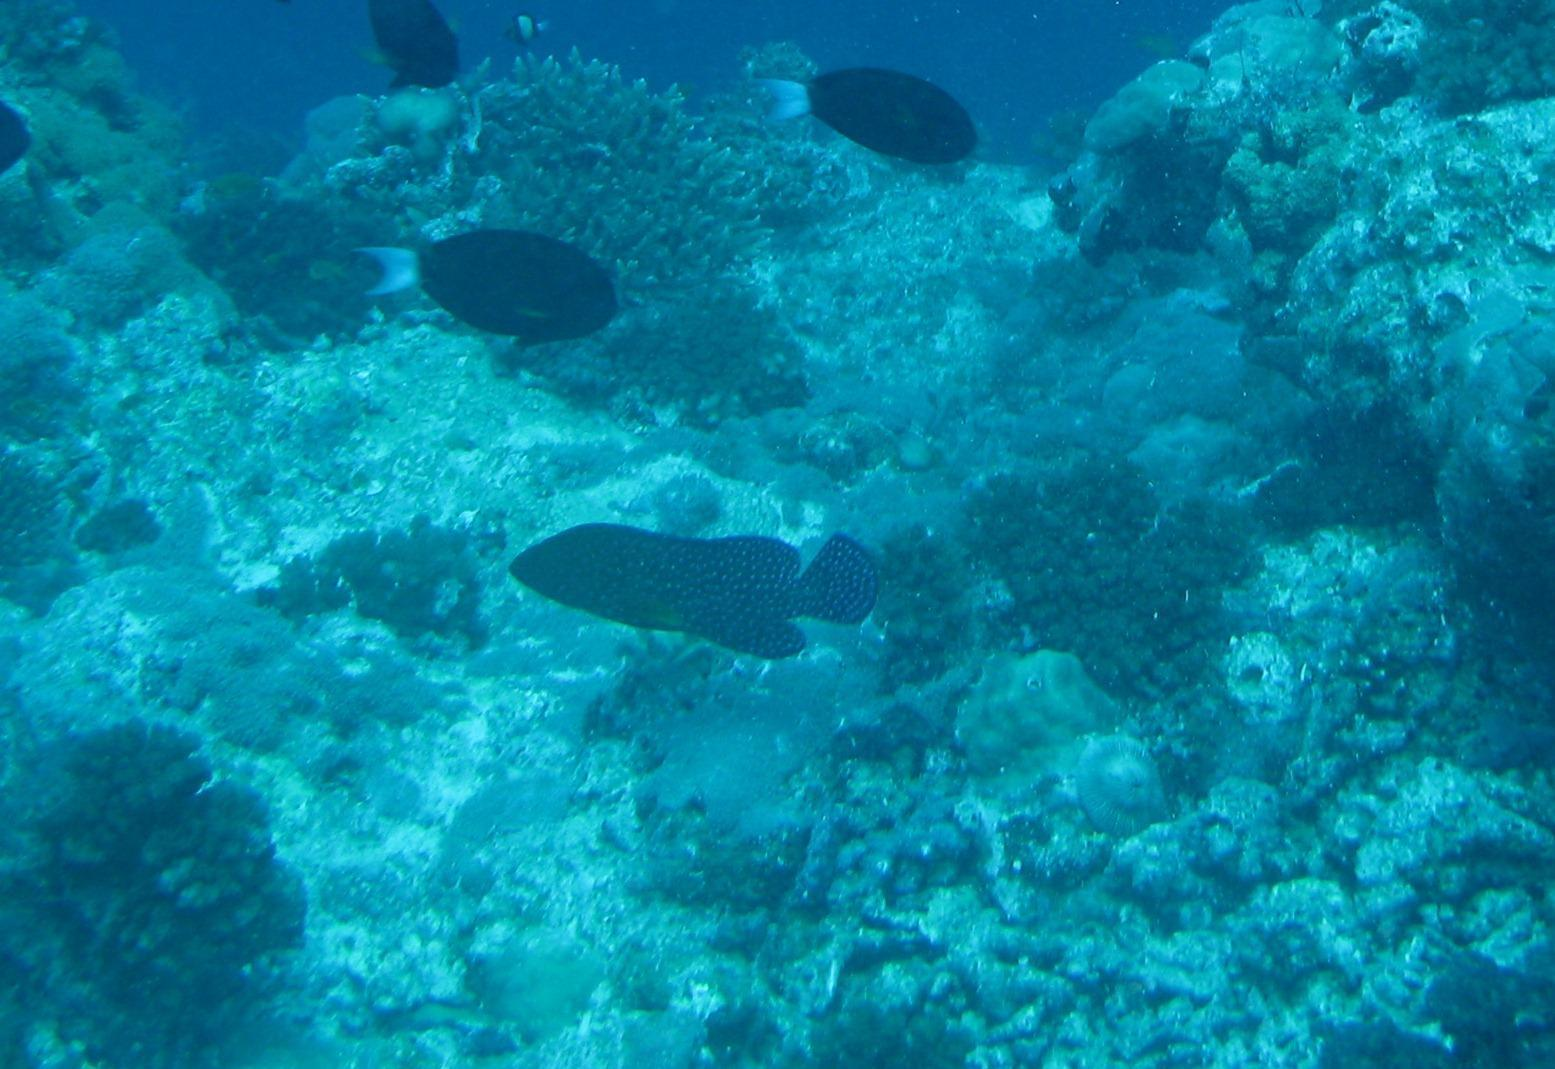Fish: (753, 454, 985, 732)
